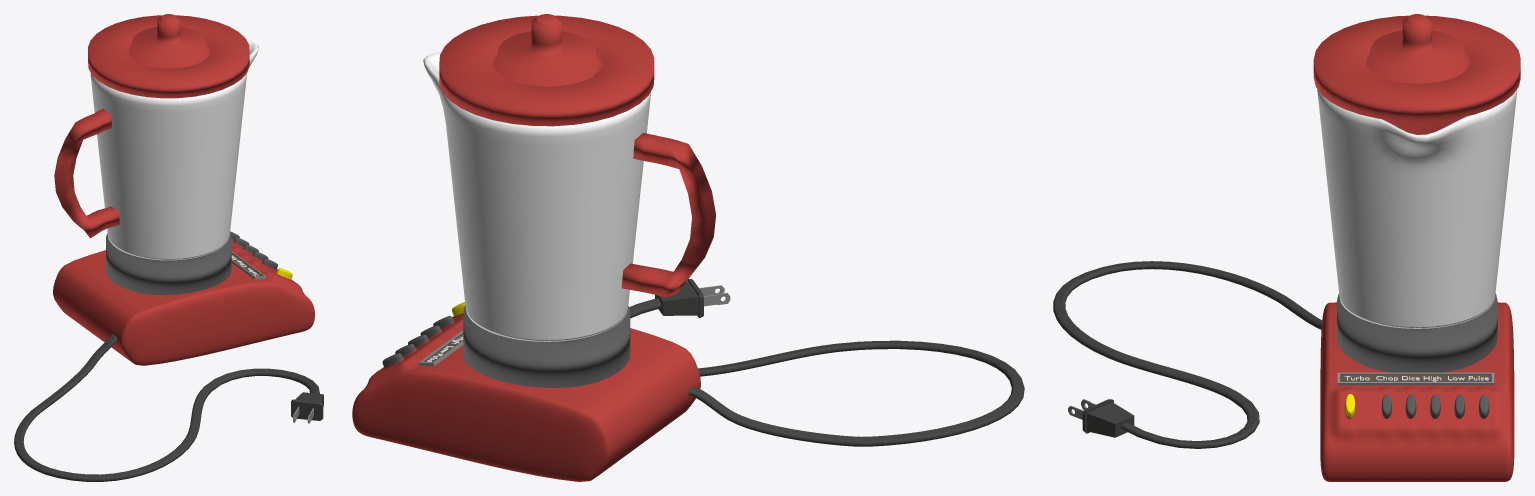
File: Blender_2.fbx
3 renders of one model, left to right at view 1: azimuth 30°, elevation 25°; view 2: azimuth 150°, elevation 25°; view 3: azimuth 270°, elevation 25°, orthographic. The views are drawn at different scales.
Parts seen in each view (by area): view 1: Cylinder.001, Cube.001, Cylinder.003, BezierCurve, Cylinder, Cylinder.002, Cube.003, Cube; view 2: Cylinder.001, Cube.001, Cylinder.003, Cylinder, BezierCurve, Cylinder.002, Cube.003, Cube; view 3: Cylinder.001, Cube.001, Cylinder.003, Cylinder, BezierCurve, Cube.006, Cube.003, Cube.
Part boxes in pixels (x1,y1,x2,y2): Cylinder.001: (90, 40, 258, 260); Cube.001: (53, 239, 314, 365); Cylinder.003: (88, 14, 249, 98); BezierCurve: (14, 334, 319, 481); Cylinder: (106, 233, 231, 294); Cylinder.002: (54, 108, 119, 238); Cube.003: (291, 392, 323, 420); Cube: (230, 231, 277, 269); Cylinder.001: (423, 51, 650, 341); Cube.001: (352, 313, 700, 481); Cylinder.003: (439, 14, 654, 126); Cylinder: (463, 306, 630, 387); BezierCurve: (629, 298, 1024, 446); Cylinder.002: (621, 133, 715, 297); Cube.003: (655, 279, 703, 318); Cube: (382, 316, 454, 367); Cylinder.001: (1317, 89, 1517, 328); Cube.001: (1320, 302, 1514, 481); Cylinder.003: (1313, 14, 1520, 134); Cylinder: (1337, 293, 1497, 372); BezierCurve: (1053, 261, 1322, 448); Cube.006: (1337, 372, 1494, 385); Cube.003: (1082, 399, 1134, 437); Cube: (1381, 394, 1489, 418).
Bounding box in the file's own units: 423 × 358 × 377.
